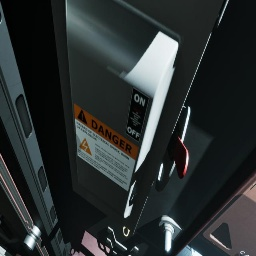SafetySwitchPanel ,: (51, 0, 229, 237)
